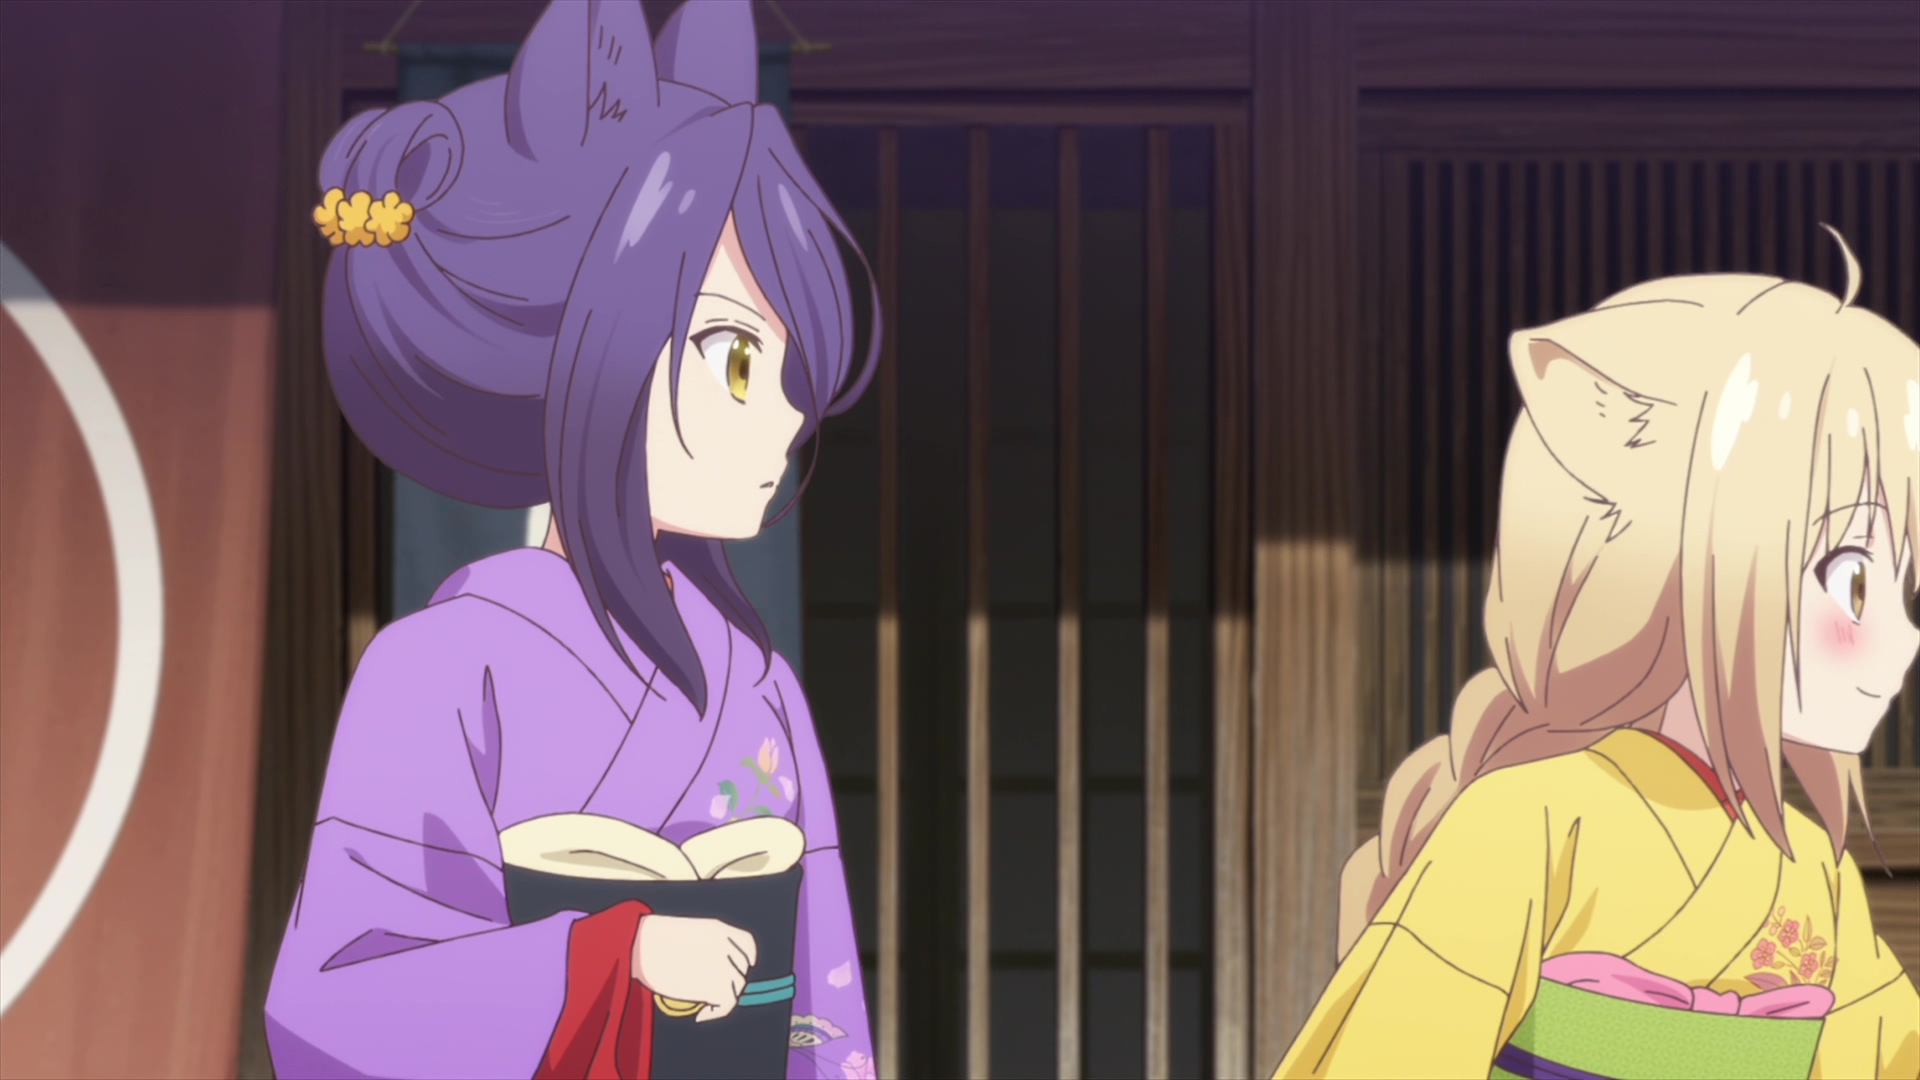柚: (1269, 219, 1920, 1080)
皋: (262, 1, 881, 1080)
